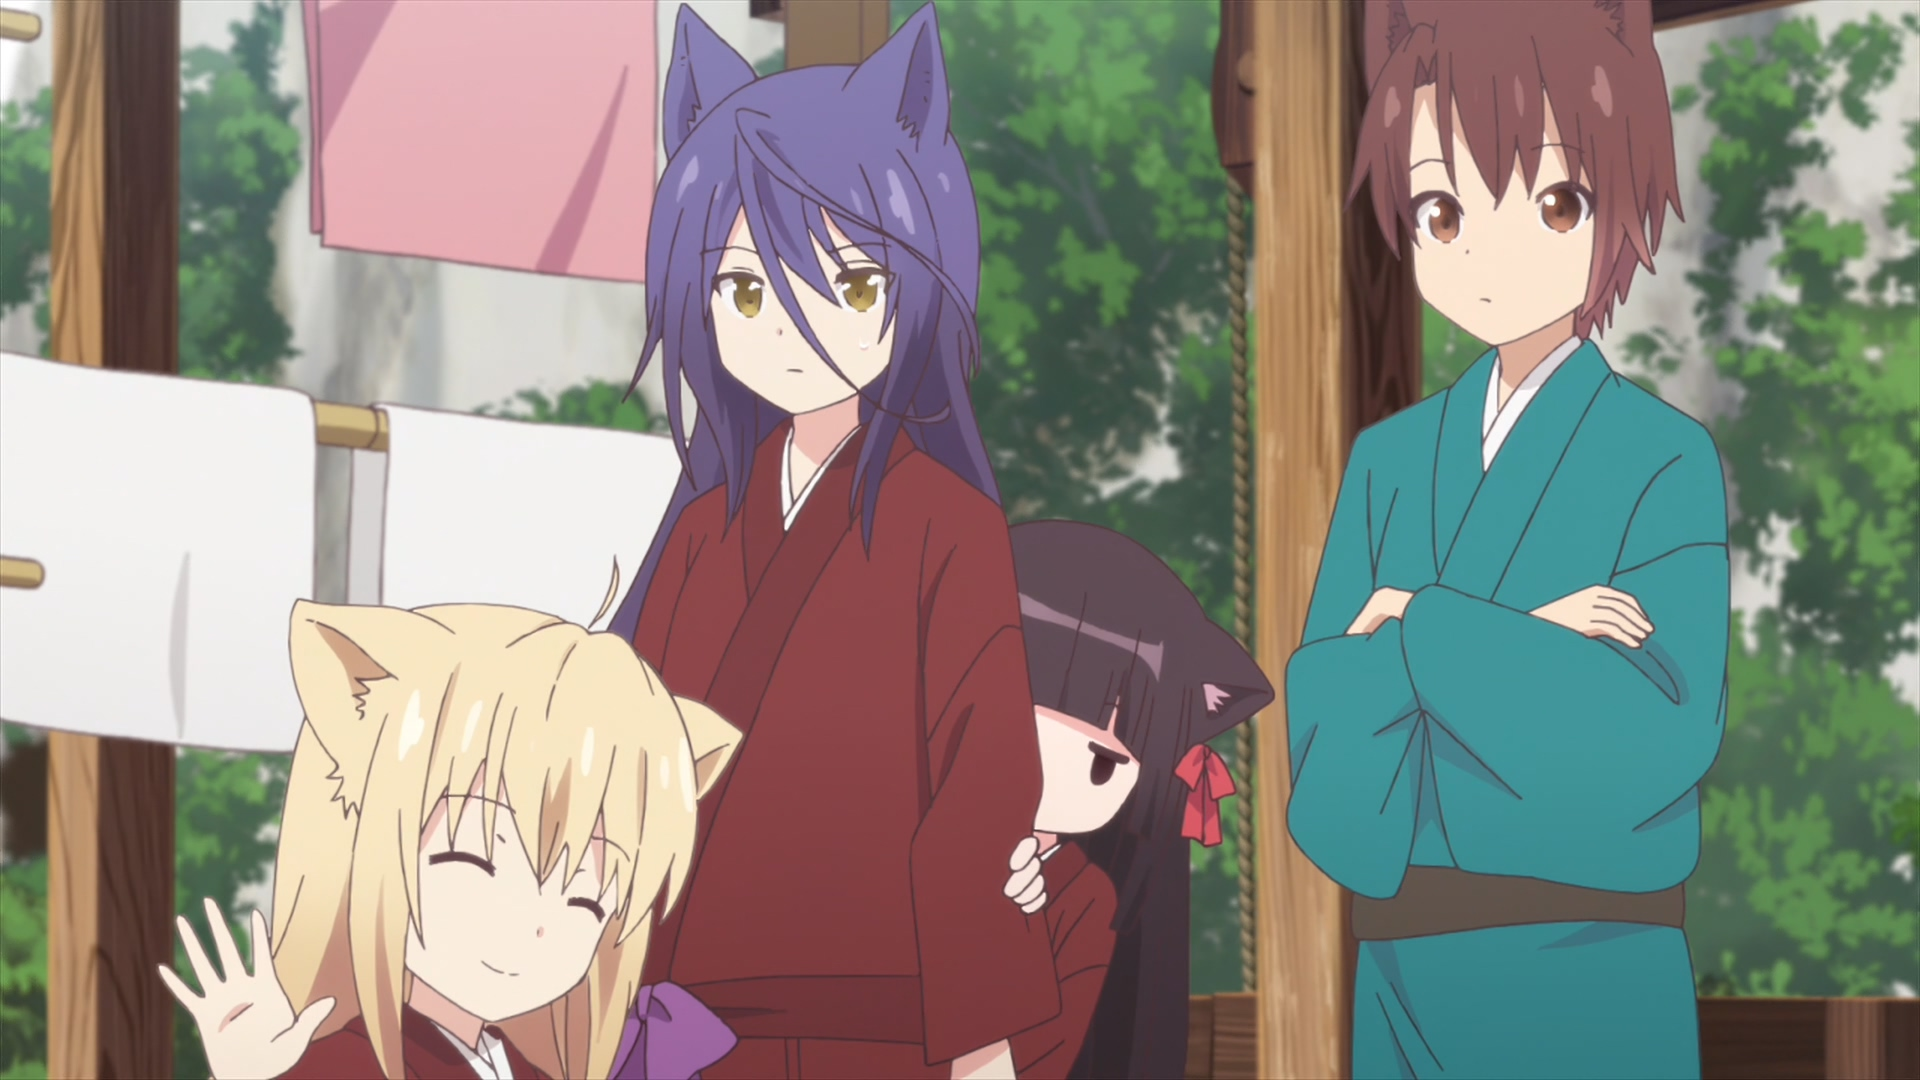枣: (1283, 1, 1731, 1080)
柚: (160, 558, 742, 1080)
樱: (1010, 520, 1275, 1080)
皋: (607, 1, 1064, 1080)
